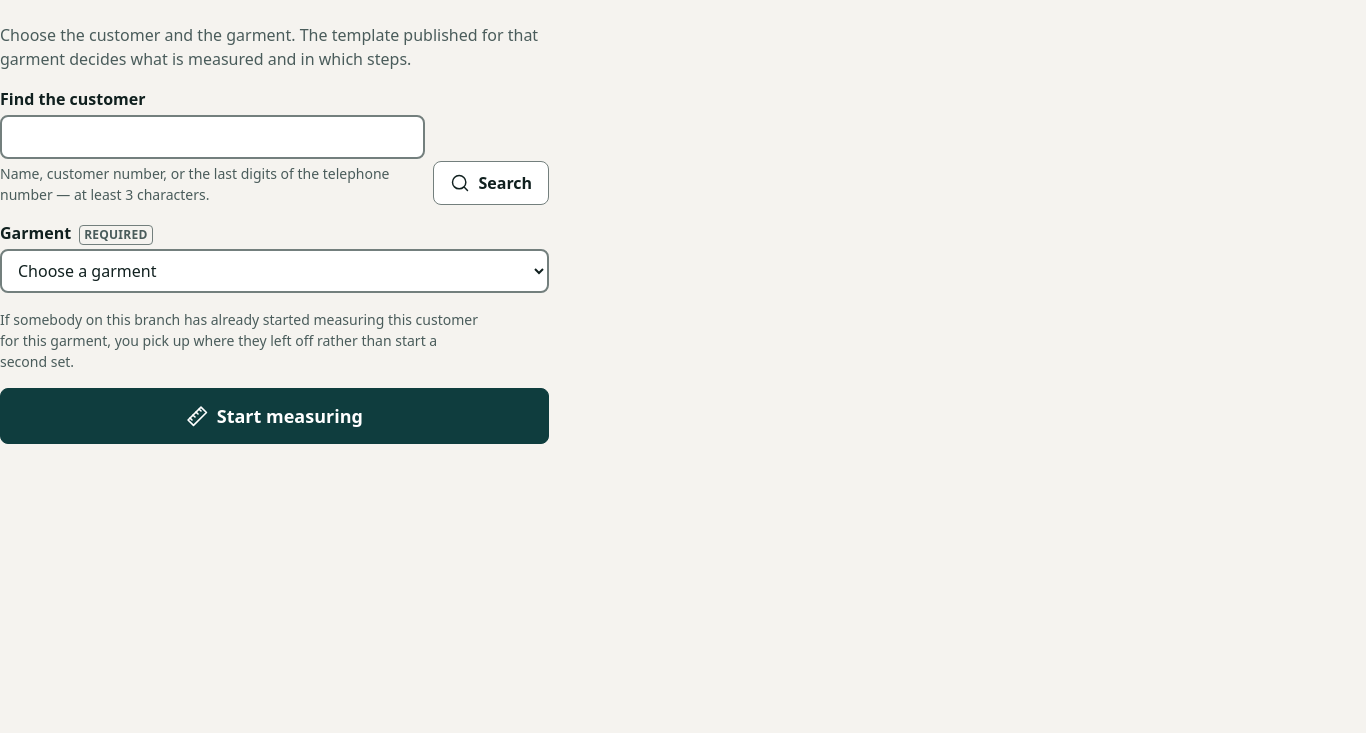
reusing an earlier measurement › cannot reuse without the screen naming the source version, its date and who took it
Type "Asha" into the search field labelled "Find the customer" at (213, 137), box [0,115,426,159]
Then press Enter
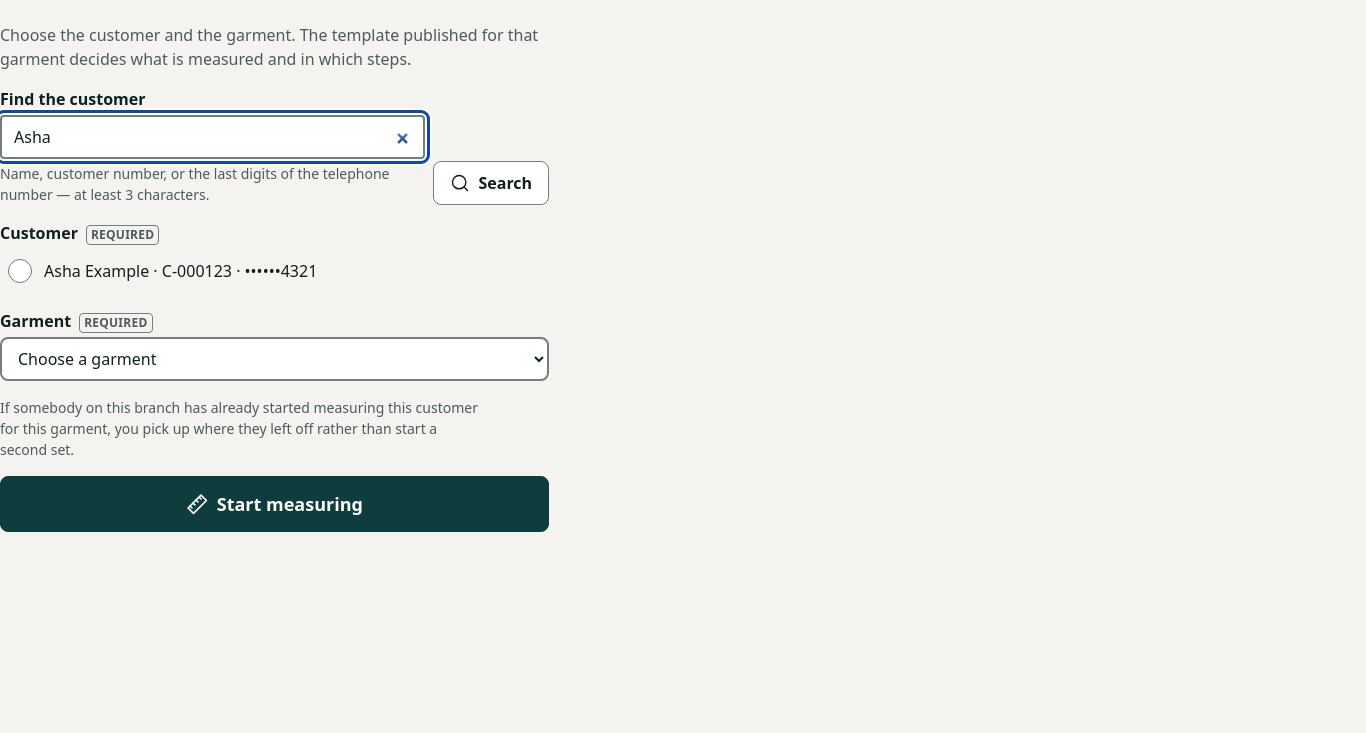
Click the radio button labelled "Asha Example · C-000123 · ••••••4321" at (20, 271), box [8,259,32,283]
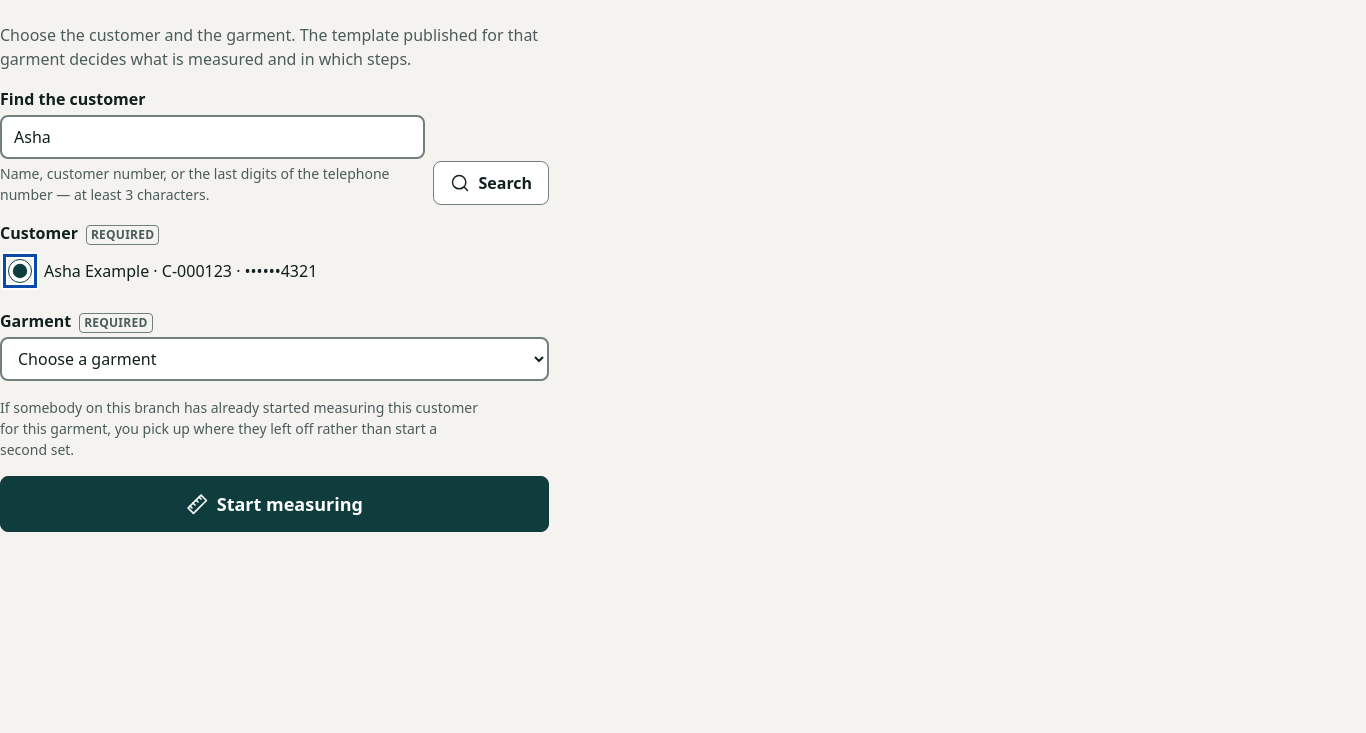
Select "Pattern work — Blouse" in the dropdown labelled "Garment" at (275, 359), box [0,337,549,381]
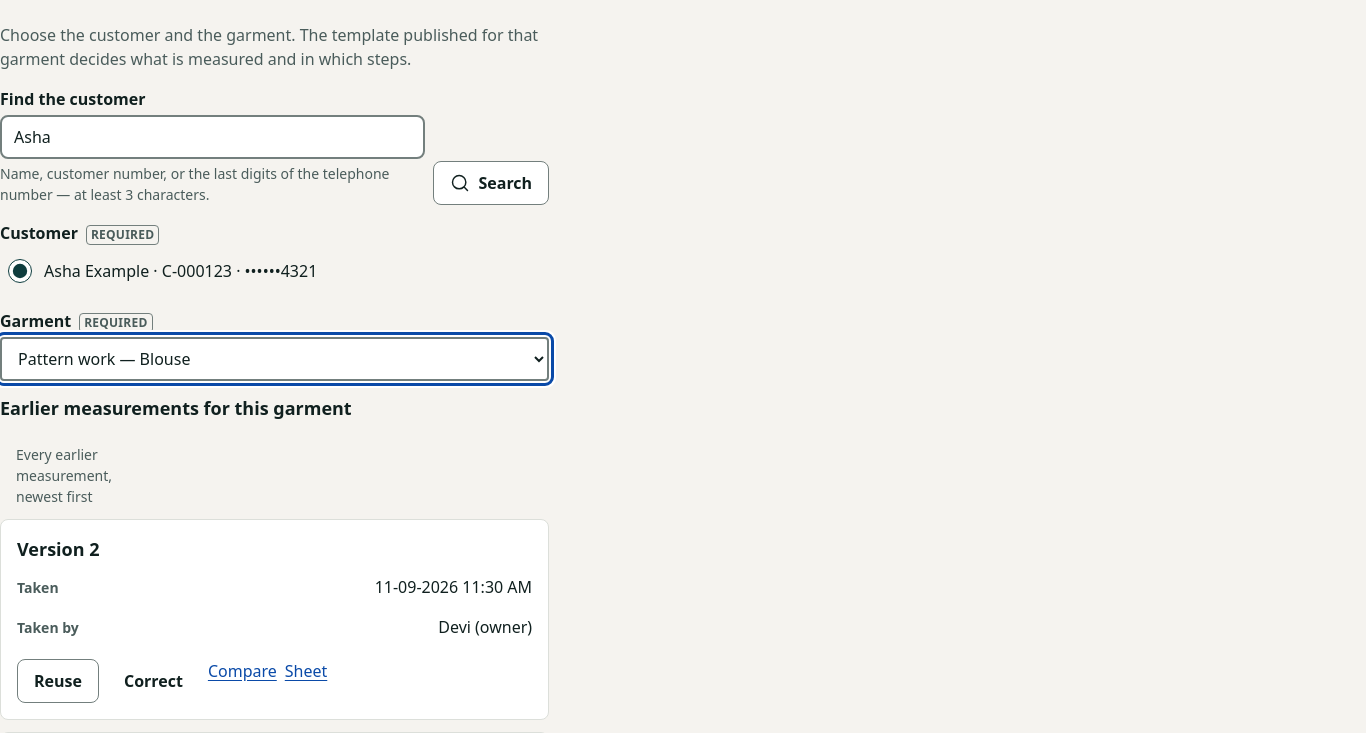
Check: the heading "Earlier measurements for this garment" is shown, box [0,396,352,420]
Click the button with aria-label "Reuse version 2" at (58, 681), box [17,659,99,703]
(page scrolled)
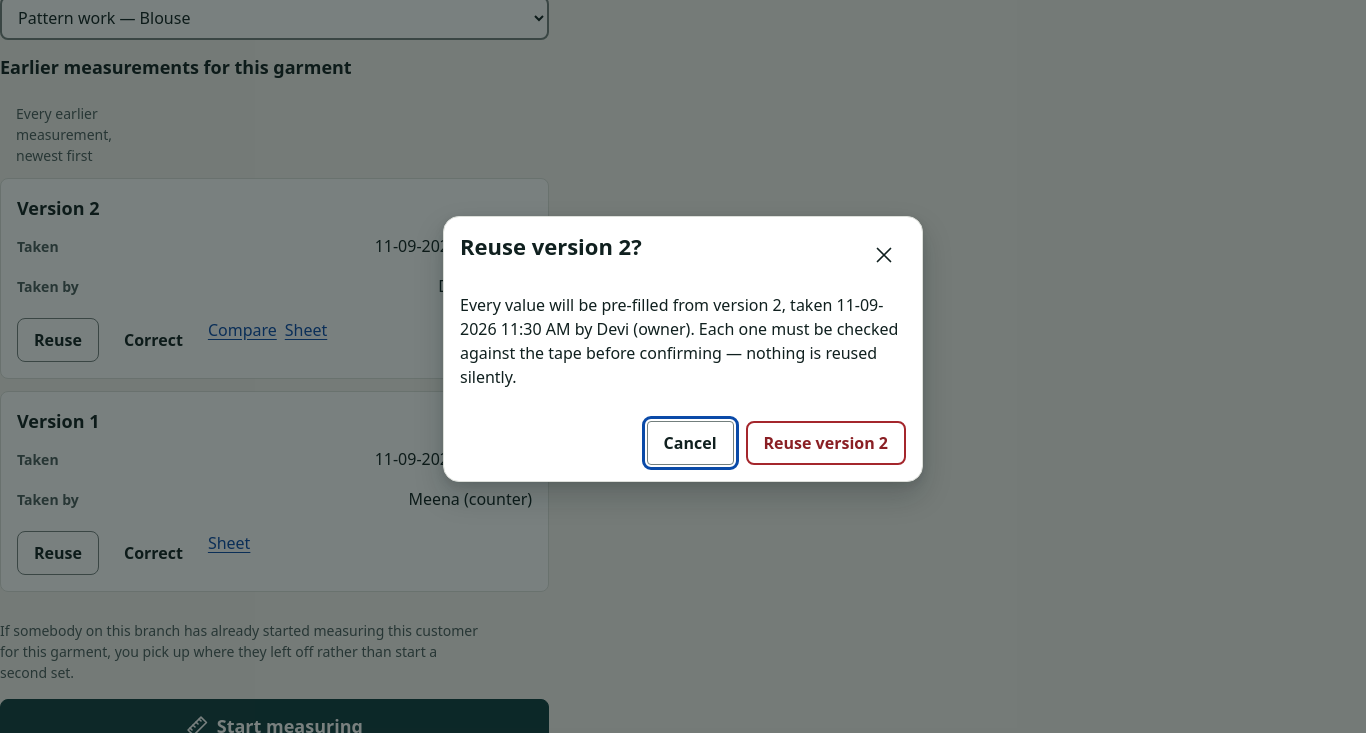
Check: the dialog shows "Reuse version 2?", box [460,231,642,261]
Click the button "Reuse version 2" at (826, 443), box [746,421,906,465]
(page scrolled)
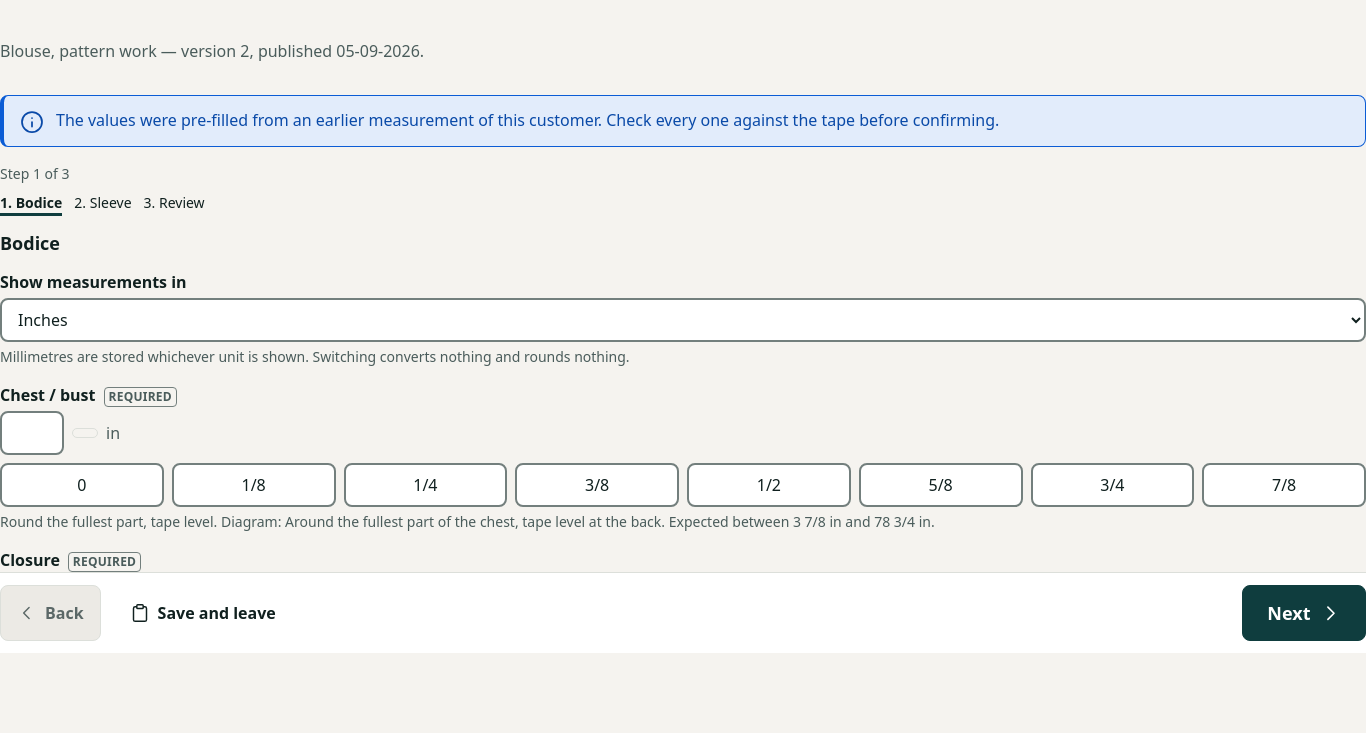
Check: the heading "Bodice" is shown, box [0,231,60,255]
